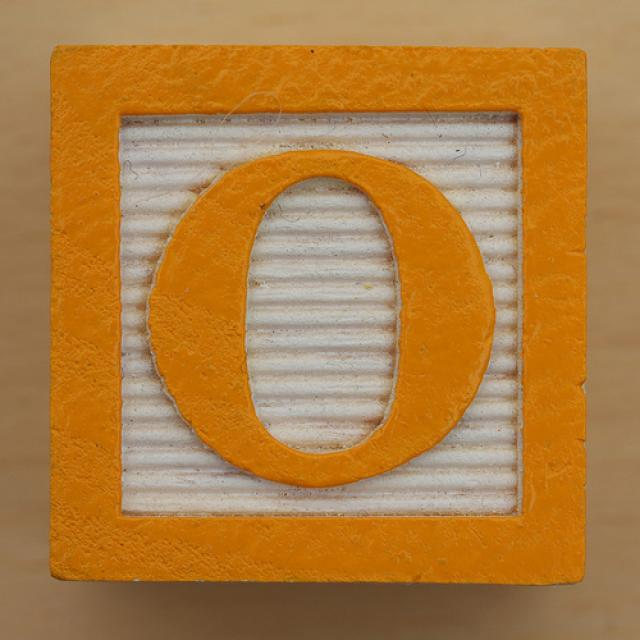O: (128, 128, 514, 503)
